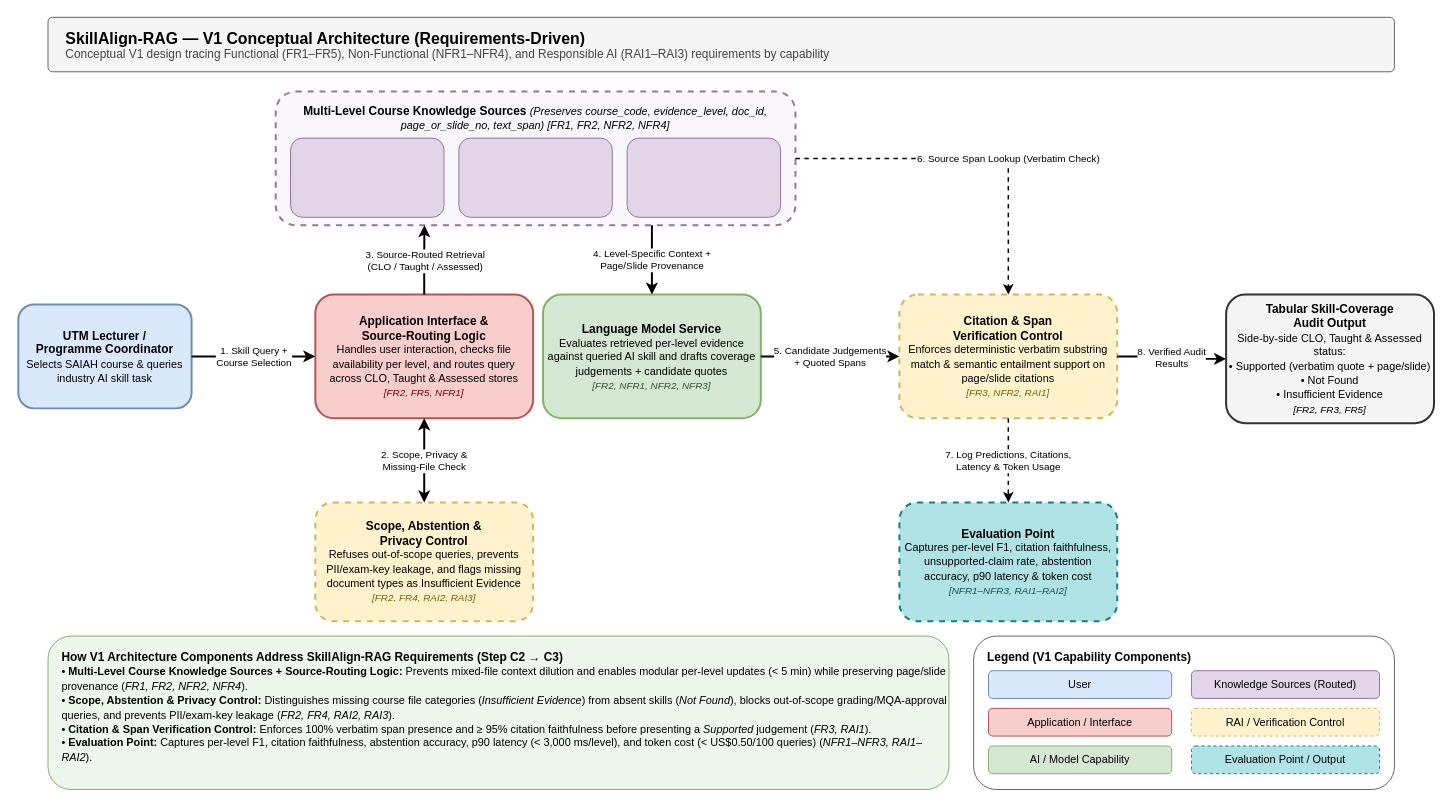
The diagram is 1451 pixels wide and 807 high, and some of its shapes have lost their labels. The centre of each missing label's shape, as x and y in pixels:
"Assessed Knowledge Source Assessment Rubrics (Evaluated Tasks)" goes at (703,177).
"CLO Knowledge Source Course Information PDFs (Intended Outcomes)" goes at (367,177).
"Taught Knowledge Source Weekly Lecture Slides (Taught Content)" goes at (535,177).
